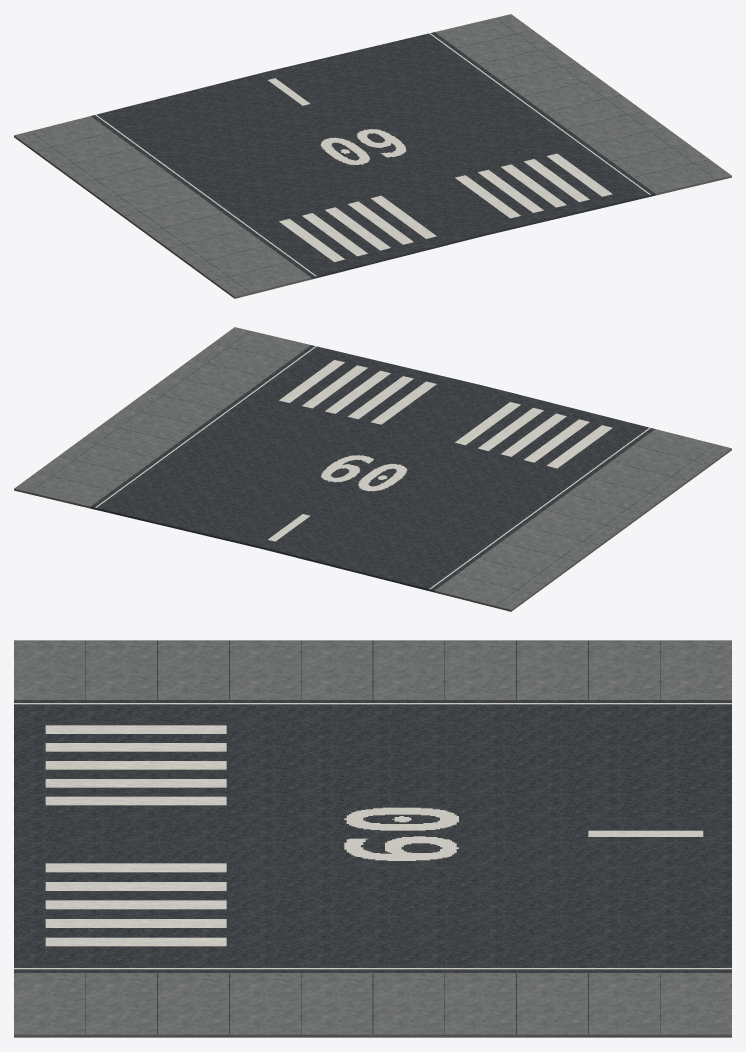
3 renders of one model, top to bottom at view 1: azimuth 30°, elevation 25°; view 2: azimuth 150°, elevation 25°; view 3: azimuth 270°, elevation 25°, orthographic. The views are drawn at different scales.
Parts seen in each view (by area): view 1: VIS_Pavement_Core, VIS_Shoulder_North, VIS_Shoulder_South, VIS_Threshold_Bars, VIS_Number_09, VIS_Edge_Lines, VIS_Transverse_Expansion_Seals; view 2: VIS_Pavement_Core, VIS_Shoulder_North, VIS_Shoulder_South, VIS_Threshold_Bars, VIS_Number_09, VIS_Edge_Lines, VIS_Transverse_Expansion_Seals; view 3: VIS_Pavement_Core, VIS_Shoulder_South, VIS_Shoulder_North, VIS_Threshold_Bars, VIS_Number_09, VIS_Edge_Lines, VIS_Transverse_Expansion_Seals, VIS_Centerline.
Boxes of the visible parts, <box> form: VIS_Pavement_Core: <box>91,32,655,279</box>; VIS_Shoulder_North: <box>14,116,311,298</box>; VIS_Shoulder_South: <box>435,14,731,195</box>; VIS_Threshold_Bars: <box>279,153,612,261</box>; VIS_Number_09: <box>320,129,406,164</box>; VIS_Edge_Lines: <box>95,33,650,276</box>; VIS_Transverse_Expansion_Seals: <box>37,31,708,280</box>; VIS_Pavement_Core: <box>90,345,654,592</box>; VIS_Shoulder_North: <box>434,429,731,611</box>; VIS_Shoulder_South: <box>14,327,310,508</box>; VIS_Threshold_Bars: <box>279,360,612,468</box>; VIS_Number_09: <box>321,455,407,491</box>; VIS_Edge_Lines: <box>95,346,650,589</box>; VIS_Transverse_Expansion_Seals: <box>37,344,708,593</box>; VIS_Pavement_Core: <box>14,700,731,972</box>; VIS_Shoulder_South: <box>14,973,731,1037</box>; VIS_Shoulder_North: <box>14,640,731,699</box>; VIS_Threshold_Bars: <box>45,725,226,946</box>; VIS_Number_09: <box>344,807,458,860</box>; VIS_Edge_Lines: <box>14,703,731,969</box>; VIS_Transverse_Expansion_Seals: <box>85,640,660,1033</box>; VIS_Centerline: <box>588,830,703,836</box>.
Size of the model in its own units: 65 by 0.511 by 50.
Materials: 4 (4 with a texture image).
